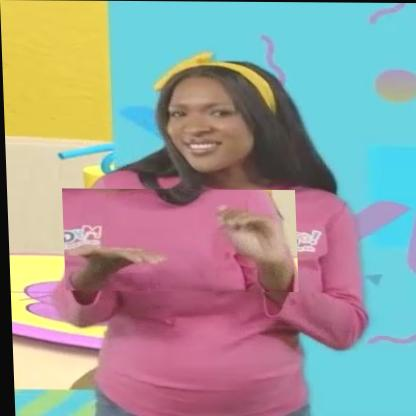ExcuseMe: (60, 188, 296, 292)
